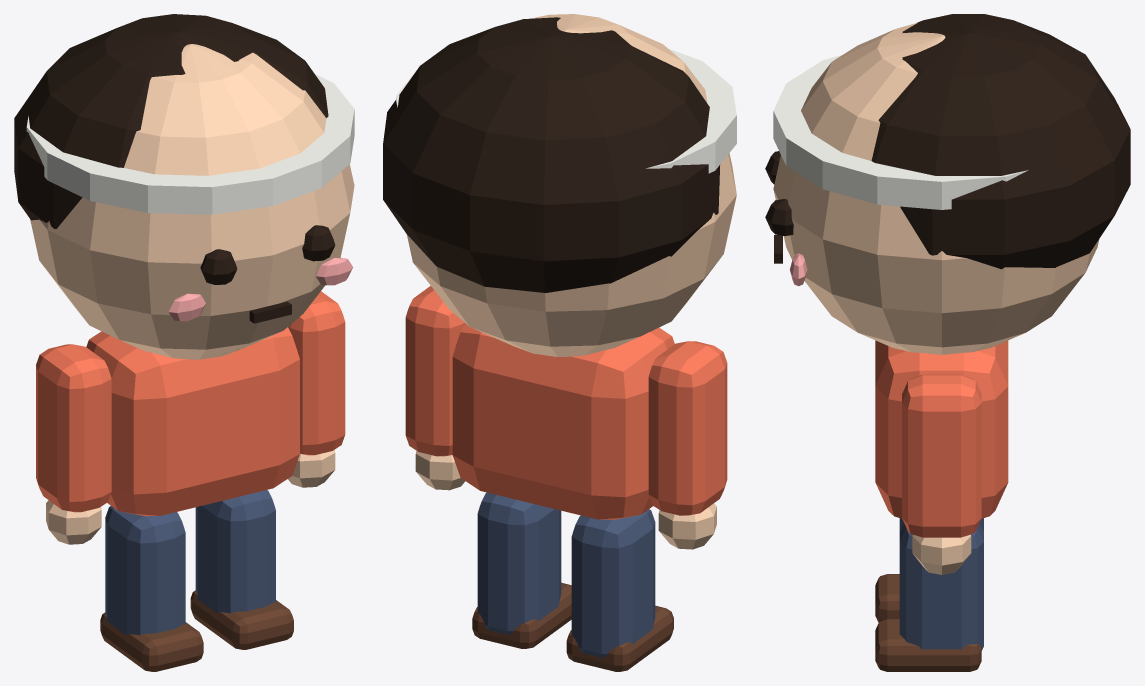
File: kar_penjaga_gor.fbx
The picture shows the model from 3 angles, left to right: view 1: azimuth 30°, elevation 25°; view 2: azimuth 150°, elevation 25°; view 3: azimuth 270°, elevation 25°; orthographic projection. The views are drawn at different scales.
Parts seen in each view (by area): view 1: kar_penjaga_gor; view 2: kar_penjaga_gor; view 3: kar_penjaga_gor.
Part boxes in pixels (x1,y1,x2,y2): kar_penjaga_gor: (14,14,354,671); kar_penjaga_gor: (383,14,736,671); kar_penjaga_gor: (765,14,1130,671).
Bounding box in the file's own units: 76 × 151 × 82.44.
1 material, 1 textured.
